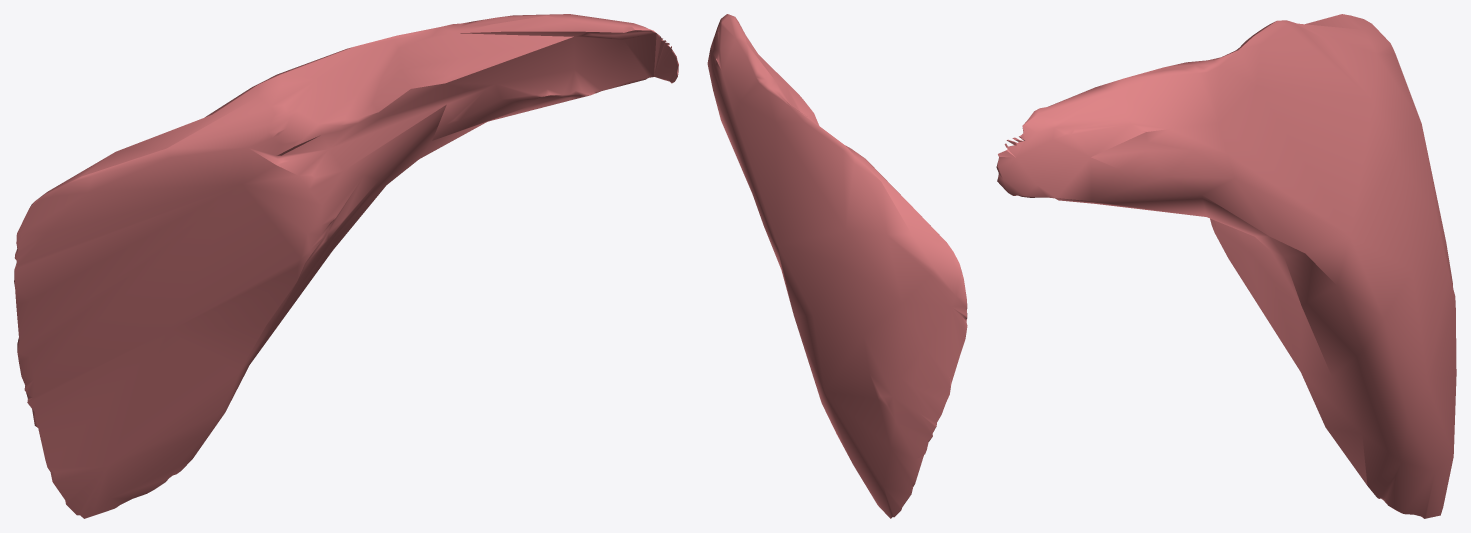
The picture shows the model from 3 angles, left to right: view 1: azimuth 30°, elevation 25°; view 2: azimuth 150°, elevation 25°; view 3: azimuth 270°, elevation 25°; orthographic projection. The views are drawn at different scales.
Visible parts, largest first — view 1: FJ1500M; view 2: FJ1500M; view 3: FJ1500M.
Boxes of the visible parts, bbox=[...] form: FJ1500M: bbox=[14, 14, 678, 518]; FJ1500M: bbox=[707, 14, 967, 518]; FJ1500M: bbox=[996, 14, 1456, 518].
Size of the model in its own units: 0.1281 by 0.1238 by 0.0803.
